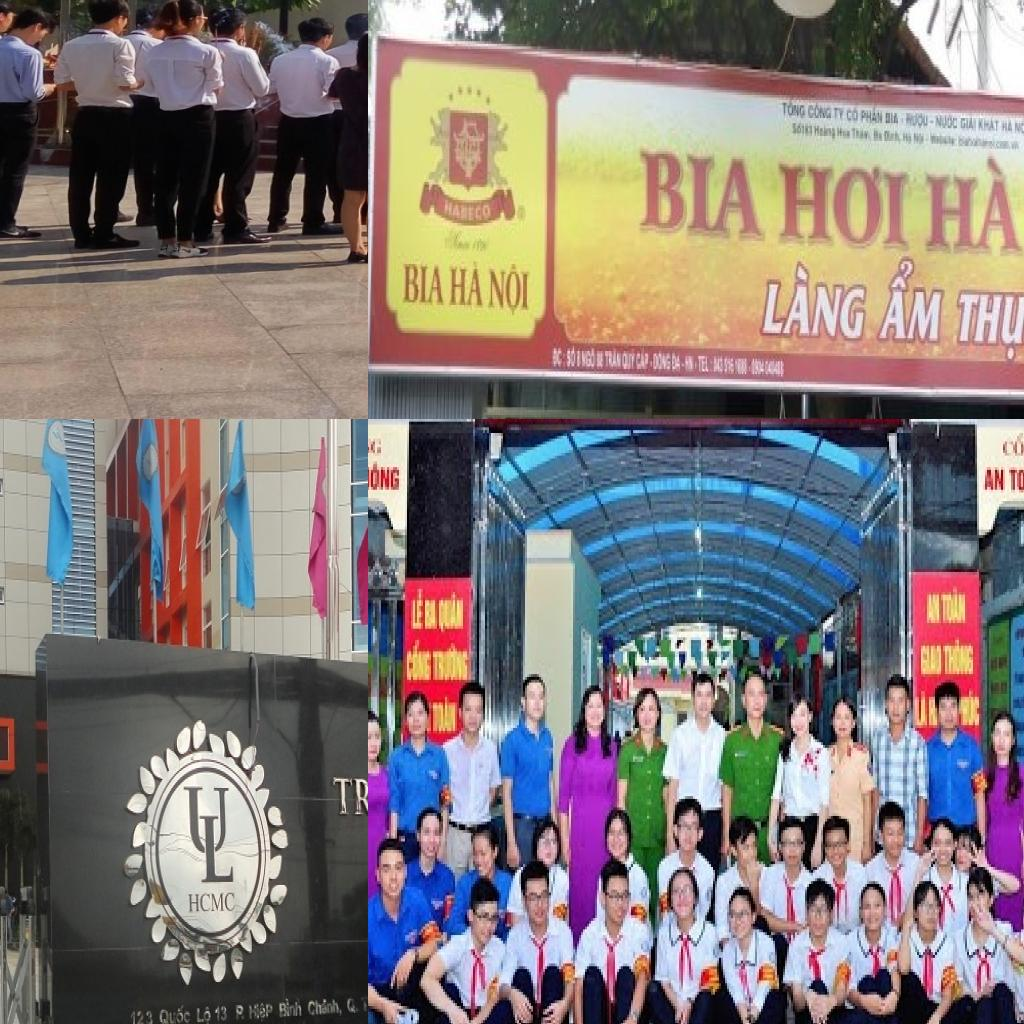text: (636, 144, 770, 246), (776, 159, 914, 256), (922, 154, 1024, 259), (757, 259, 874, 346), (875, 254, 949, 348), (951, 286, 1024, 366), (182, 785, 238, 886), (488, 261, 532, 318), (400, 262, 448, 312), (330, 760, 368, 821), (448, 259, 486, 310), (442, 195, 492, 228), (433, 643, 469, 685), (943, 637, 977, 680), (437, 592, 467, 637), (368, 458, 403, 495), (939, 586, 969, 629), (188, 891, 238, 916), (407, 640, 433, 686), (431, 694, 459, 736), (919, 643, 945, 680), (961, 688, 983, 731), (307, 996, 345, 1020), (983, 464, 1009, 496), (157, 1003, 193, 1024), (913, 691, 931, 731), (781, 98, 808, 123), (247, 1000, 275, 1024), (1001, 432, 1024, 461), (903, 110, 930, 134), (806, 100, 834, 123), (411, 589, 425, 634), (934, 110, 960, 134), (278, 996, 304, 1020), (925, 592, 941, 629), (814, 120, 838, 144), (1009, 461, 1024, 498), (978, 113, 1002, 136), (860, 106, 884, 128), (652, 348, 672, 374), (425, 598, 439, 634), (368, 430, 385, 458), (851, 126, 874, 146), (604, 348, 622, 372), (128, 1008, 155, 1024), (883, 128, 903, 149), (621, 348, 637, 374), (552, 346, 568, 371), (696, 354, 714, 376), (792, 120, 814, 138), (844, 105, 862, 126), (670, 351, 686, 374), (582, 348, 597, 372), (960, 113, 978, 133), (195, 1003, 212, 1024), (913, 131, 930, 151), (213, 1003, 229, 1024), (884, 108, 900, 128), (345, 996, 360, 1017), (566, 344, 577, 372), (1001, 115, 1015, 136), (836, 126, 852, 144), (684, 354, 696, 376), (234, 1002, 246, 1024), (833, 105, 847, 123), (902, 128, 914, 149), (872, 126, 884, 146), (1013, 118, 1024, 138), (359, 993, 368, 1016), (577, 348, 582, 372), (929, 118, 935, 126)
